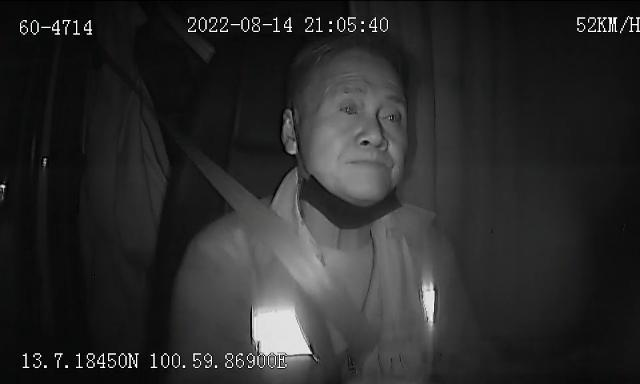SafeDriving: (332, 92, 366, 124), (376, 97, 406, 129)
Seatbelt: (182, 137, 390, 384)
